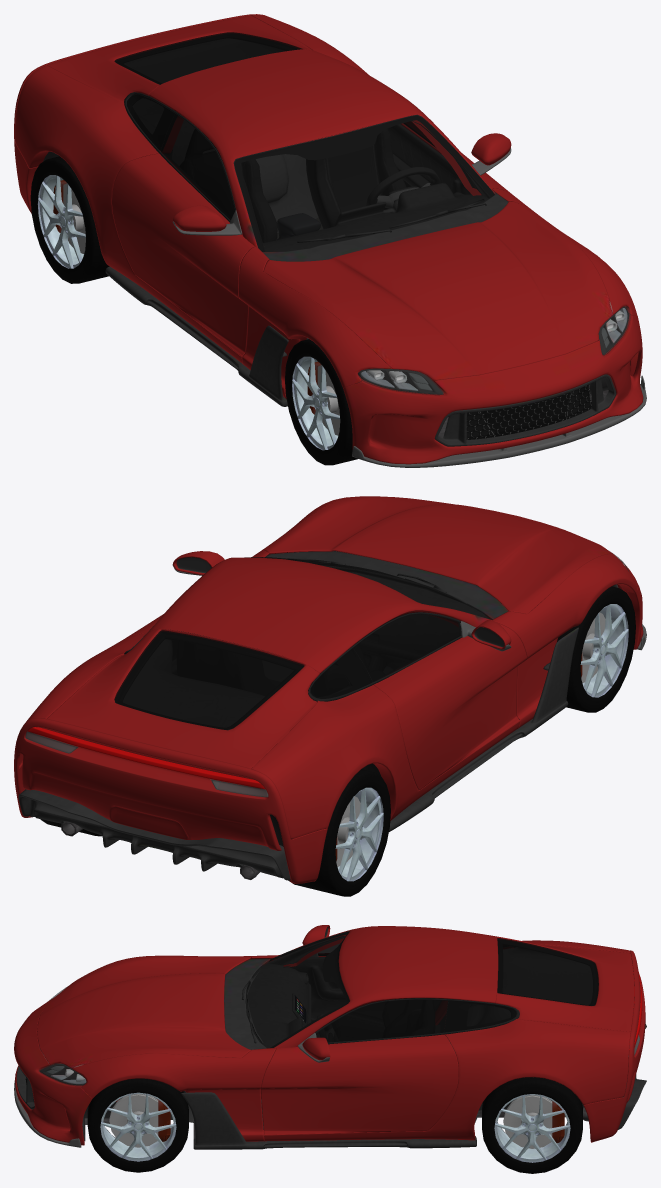
Rendered from generic_sport_coupe_car.glb.
The picture shows the model from 3 angles, top to bottom: view 1: azimuth 30°, elevation 25°; view 2: azimuth 150°, elevation 25°; view 3: azimuth 270°, elevation 25°; orthographic projection. The views are drawn at different scales.
Visible parts, largest first — view 1: body, hood, glass-windshield, front-bumper, door.r, side-fender.r, interior-roof-rear-trim, trunk, seat-back-01, glass-rear, dashboard-base, side-fender-aero.r (+22 smaller); view 2: body, rear-bumper, hood, trunk, door.r, glass-rear, side-fender.r, rear-diffusor-v2, interior-roof-rear-trim, dashboard-base, window-front.r, side-fender-aero.r (+16 smaller); view 3: body, hood, door.l, side-fender.l, glass-windshield, trunk, glass-rear, interior-roof-rear-trim, front-bumper, side-fender-aero.l, dashboard-base, window-front.l (+21 smaller).
Boxes of the visible parts, x1,y1,x2,y2 form: body: (15,15,495,363); hood: (263,201,613,380); glass-windshield: (234,115,494,251); front-bumper: (343,314,643,464); door.r: (111,153,254,357); side-fender.r: (238,246,391,398); interior-roof-rear-trim: (124,39,490,232); trunk: (47,15,313,105); seat-back-01: (306,129,406,228); glass-rear: (114,32,302,84); dashboard-base: (263,183,488,251); side-fender-aero.r: (105,266,288,406); body: (19,557,520,839); rear-bumper: (14,718,327,883); hood: (263,496,612,613); trunk: (47,628,319,768); door.r: (374,622,527,789); glass-rear: (114,630,304,729); side-fender.r: (492,553,637,728); rear-diffusor-v2: (18,789,290,880); interior-roof-rear-trim: (123,640,351,726); dashboard-base: (347,571,488,671); window-front.r: (353,612,461,681); side-fender-aero.r: (389,627,578,831); body: (116,926,630,1141); hood: (37,955,250,1068); door.l: (260,1034,458,1135); side-fender.l: (72,1048,275,1141); glass-windshield: (245,932,349,1048); trunk: (495,936,634,1031); glass-rear: (497,938,598,1005); interior-roof-rear-trim: (267,936,592,1053); front-bumper: (14,1000,92,1145); side-fender-aero.l: (181,1092,476,1149); dashboard-base: (245,963,311,1048); window-front.l: (316,998,448,1042).
Size of the model in its own units: 2.27 by 1.35 by 4.73.
Materials: 19 (7 with a texture image).
